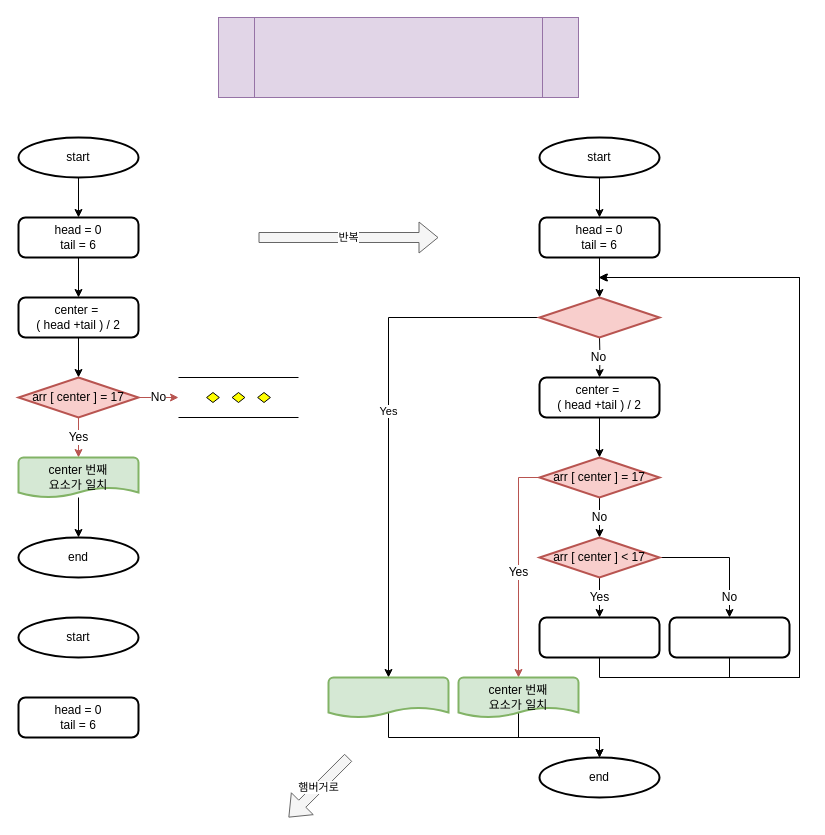
The diagram is 825 pixels wide and 835 high, and some of its shapes have lost their labels. The shapes that lost their labels are listed below. From the top down, each one's centre as x and y in pixels, then its label:
At (x=398, y=57): "Binary Search".
At (x=599, y=317): "head > = tail".
At (x=599, y=637): "head = center + 1".
At (x=729, y=637): "tail = center - 1".
At (x=388, y=697): "찾는 값이 없습니다.".
